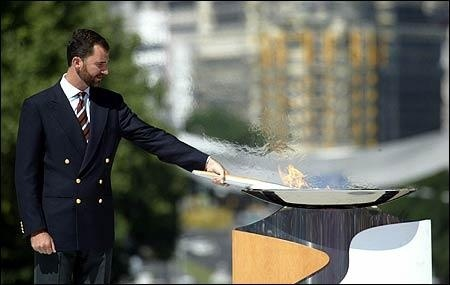fire: (279, 162, 305, 187)
